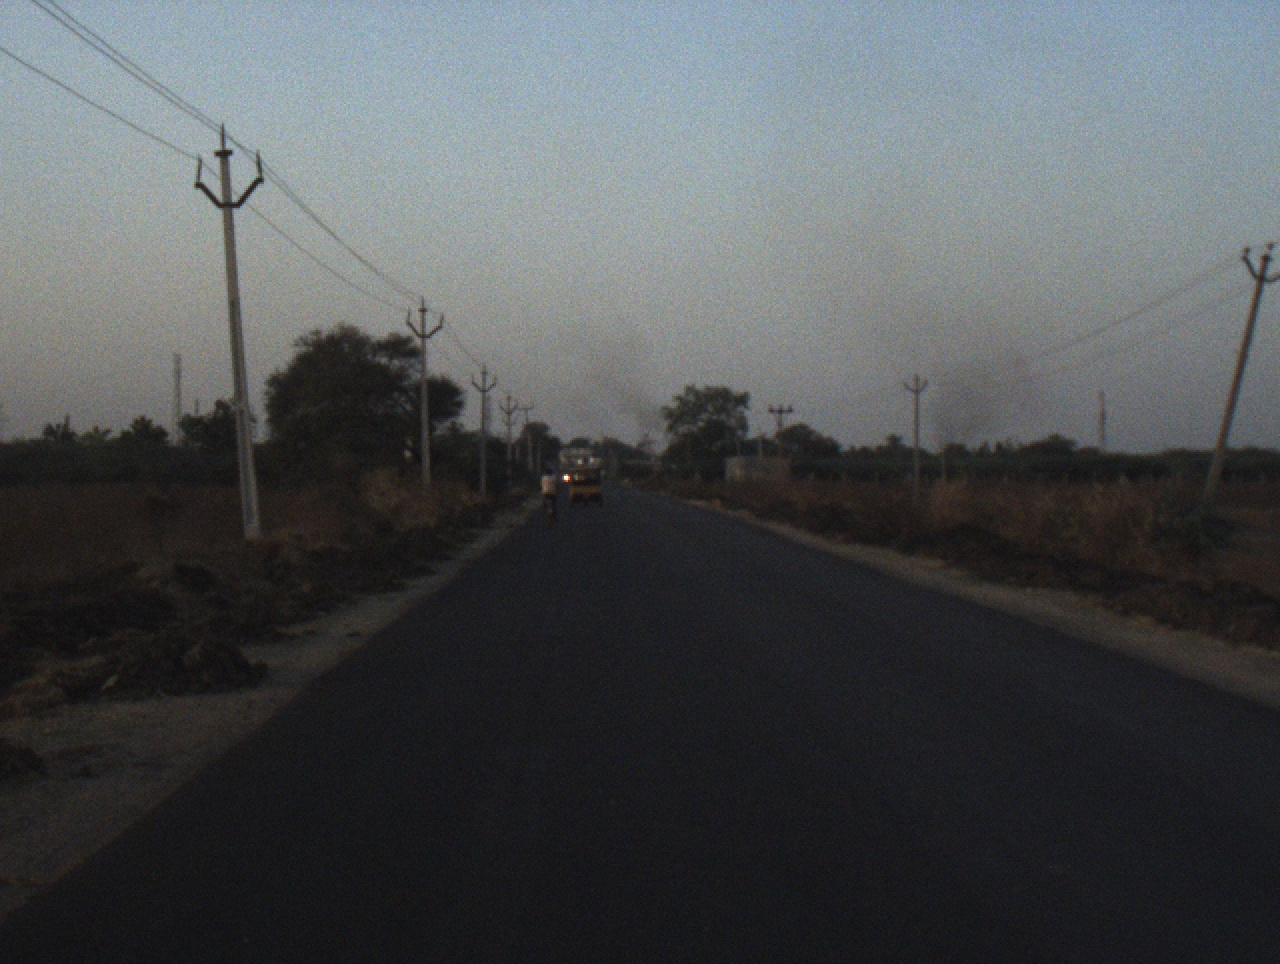autorickshaw: (569, 461, 607, 507)
bicycle: (544, 494, 558, 525)
rider: (539, 466, 561, 514)
vehicle fallback: (561, 470, 573, 485)
